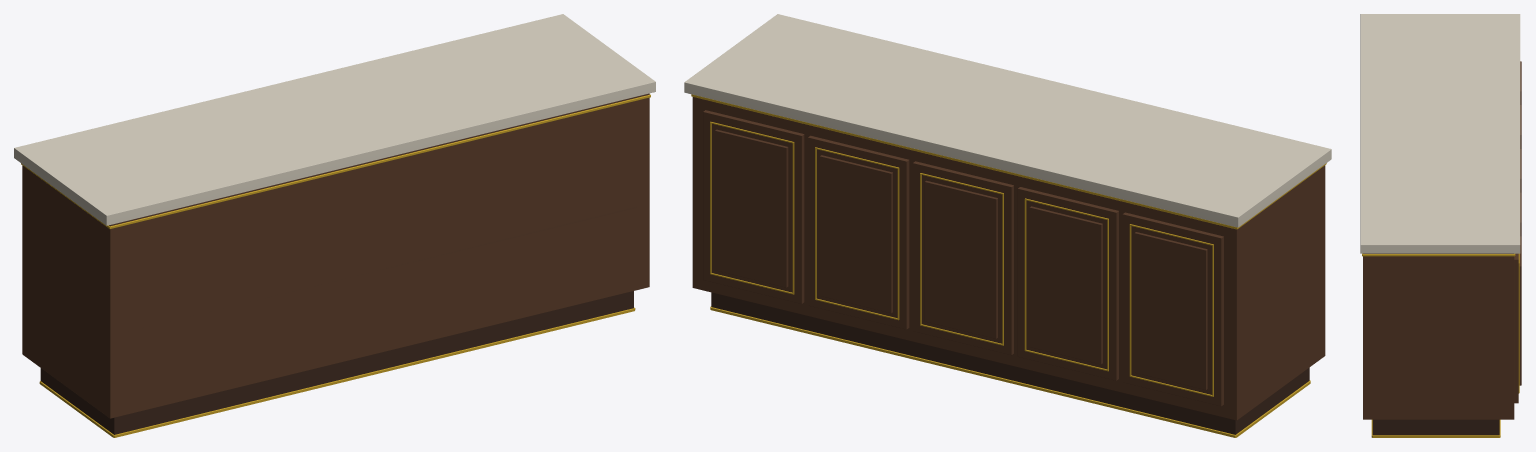
Rendered from prop_counter_sales.glb.
3 views of the same model, side by side, from view 1: azimuth 30°, elevation 25°; view 2: azimuth 150°, elevation 25°; view 3: azimuth 270°, elevation 25° (orthographic). The views are drawn at different scales.
Parts seen in each view (by area): view 1: Counter; view 2: Counter; view 3: Counter.
Boxes of the visible parts, left/top/right/bottom form: Counter: left=14, top=14, right=655, bottom=437; Counter: left=684, top=14, right=1331, bottom=437; Counter: left=1360, top=14, right=1521, bottom=437.
Size of what is drawn, in the model's own units: 2.24 by 0.9 by 0.66.
